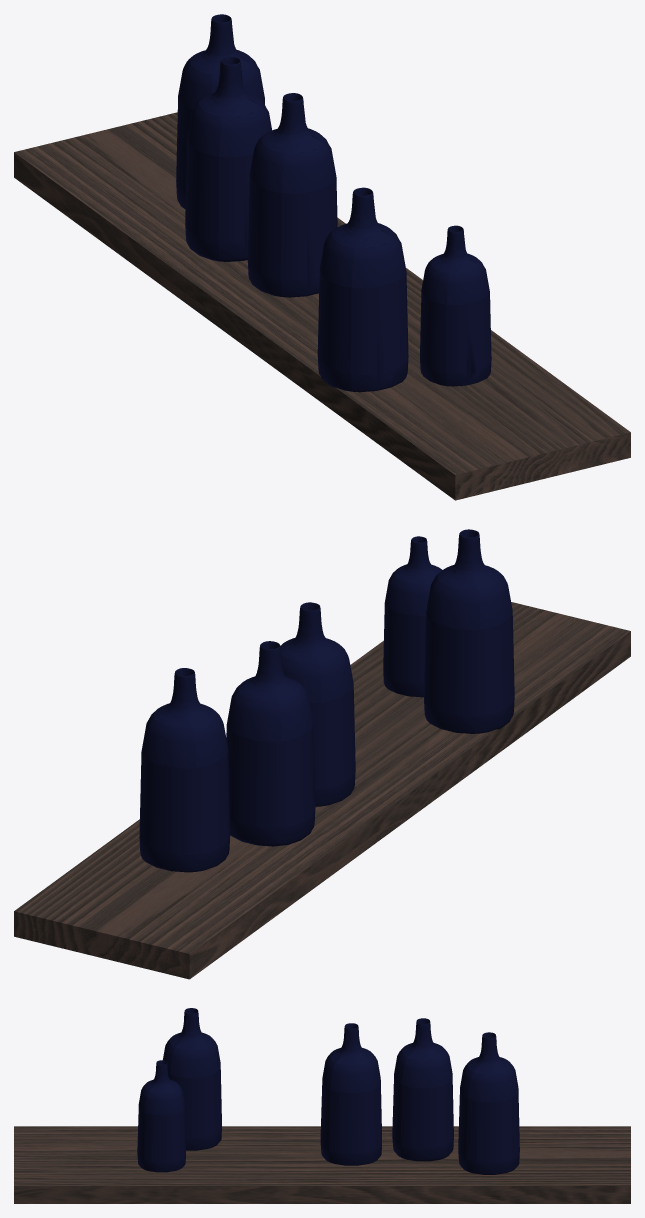
Rendered from bouteilles.glb.
3 renders of one model, top to bottom at view 1: azimuth 30°, elevation 25°; view 2: azimuth 150°, elevation 25°; view 3: azimuth 270°, elevation 25°, orthographic. The views are drawn at different scales.
Parts seen in each view (by area): view 1: etagere_bouteilles; view 2: etagere_bouteilles; view 3: etagere_bouteilles.
Boxes of the visible parts, box(x1,y1,x2,y2) form: etagere_bouteilles: box(14, 14, 630, 500); etagere_bouteilles: box(14, 529, 630, 979); etagere_bouteilles: box(14, 1008, 630, 1203).
Bounding box in the file's own units: 0.3426 × 0.3826 × 1.46.
2 materials, 1 textured.
